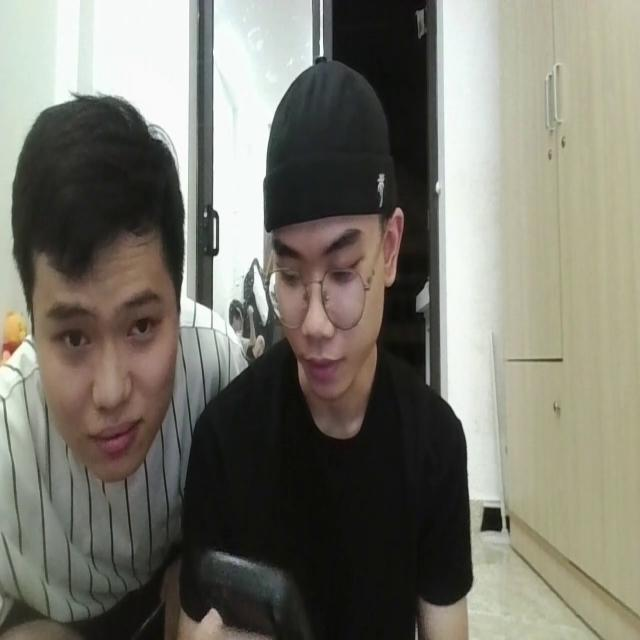extra_person: (8, 94, 186, 640)
phone: (191, 530, 300, 640)
student: (187, 64, 476, 640)
